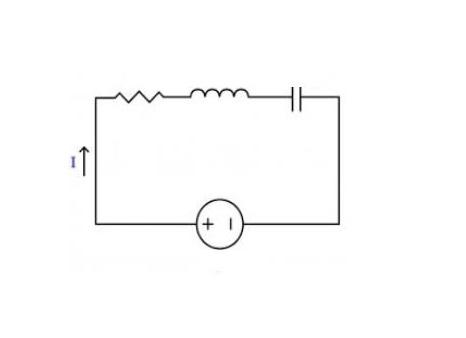resistor: (110, 77, 172, 107)
